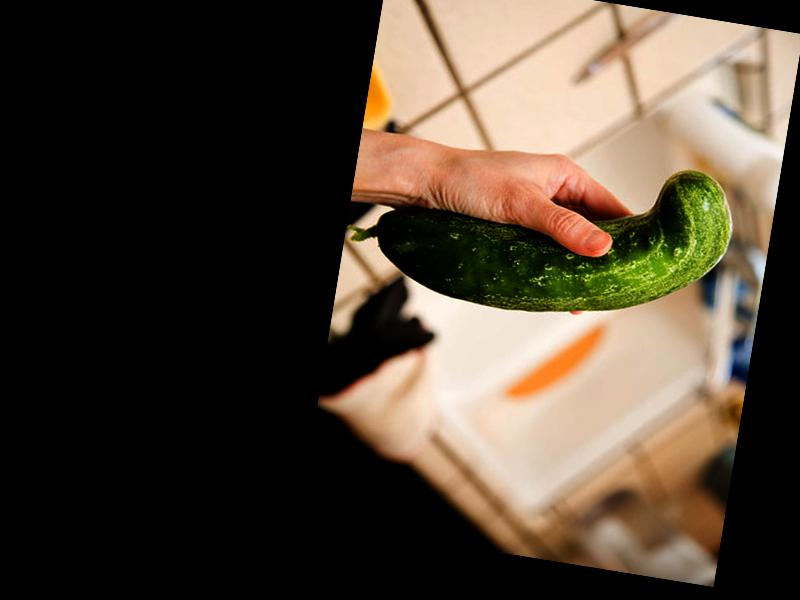Cucumber: (343, 118, 740, 344)
